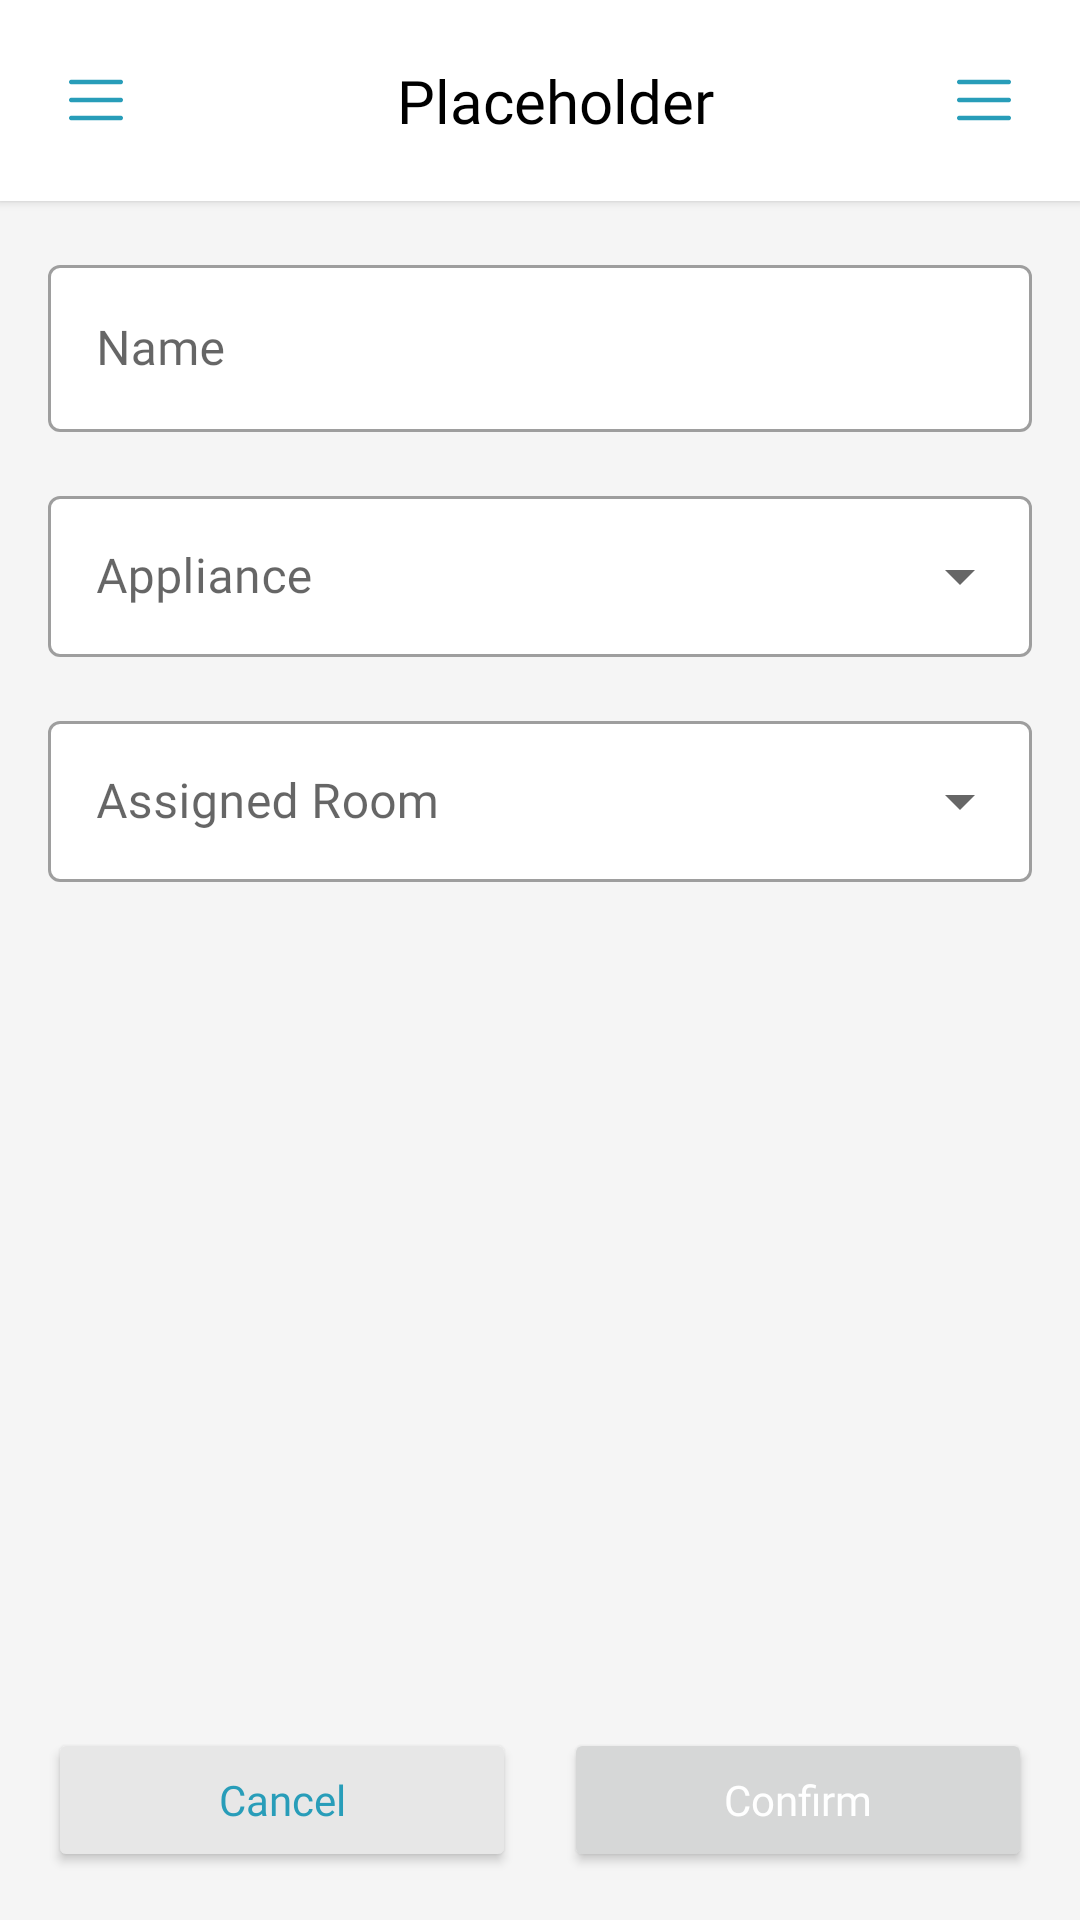

Named icons in this screenshot (1080*1920) and their centers, point (x, y):
menu: point (96, 100), point (984, 100)
